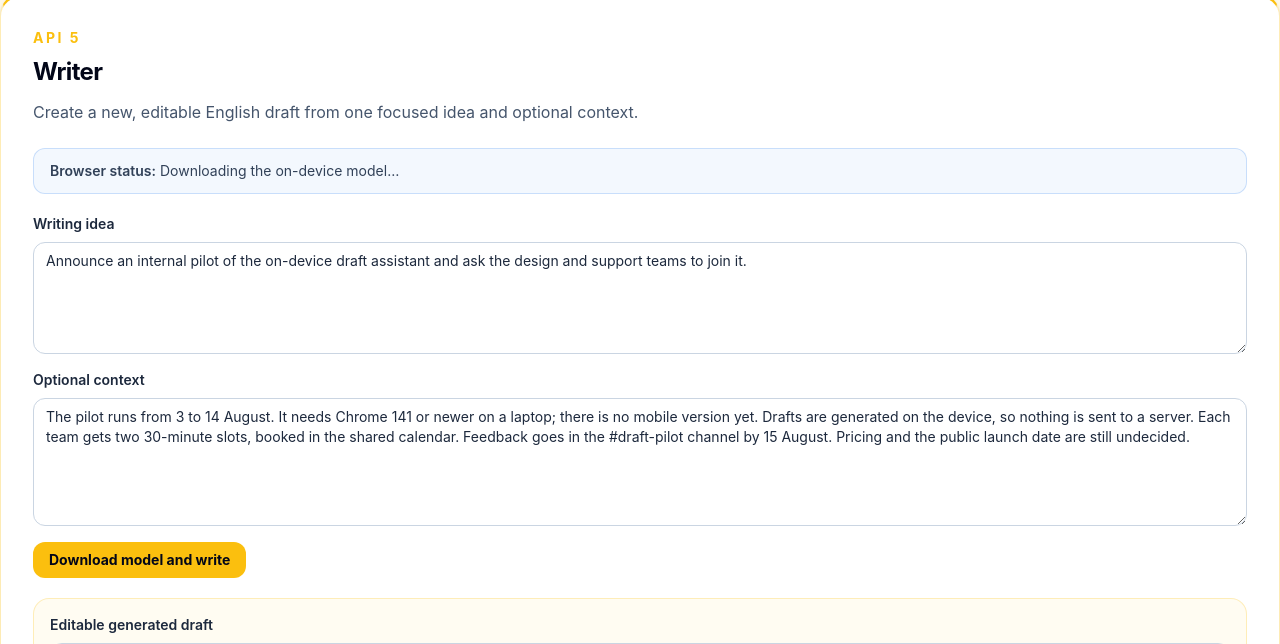
Scenario: Writer demo › lets the user join an in-progress model download
Click the button "Download model and write". click: (140, 560)
box: [33, 542, 246, 578]
(page scrolled)
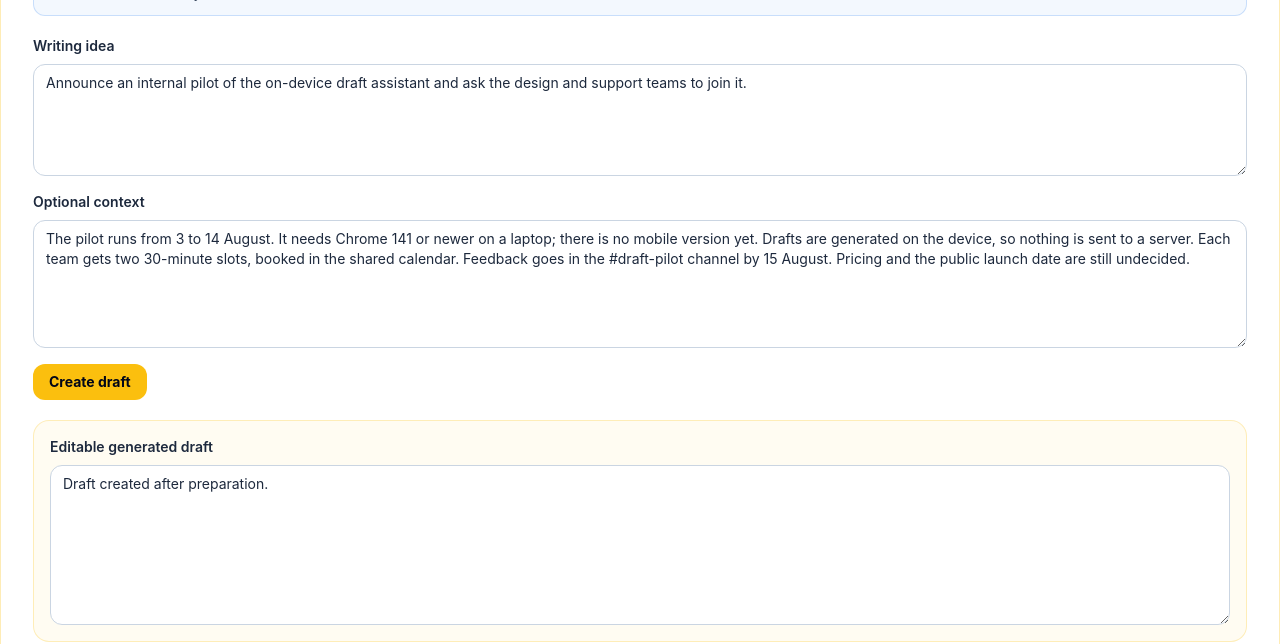
Check: the text box showing "Draft created after preparation." is shown, box [50, 465, 1230, 625]
